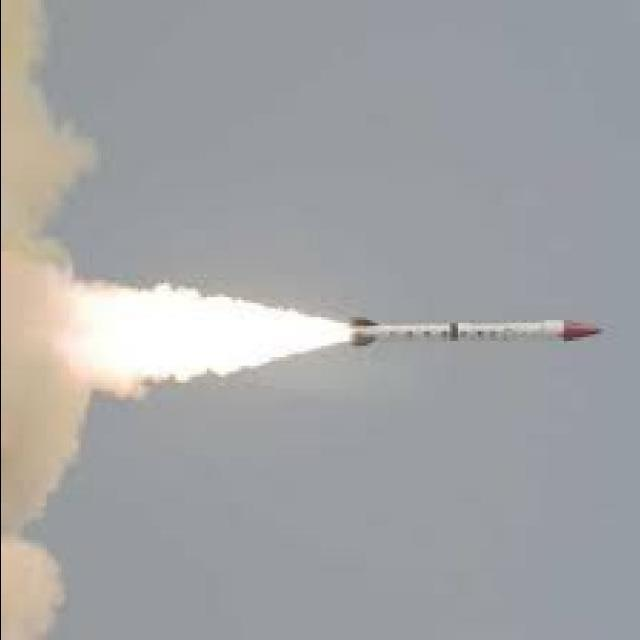Missile: (347, 315, 603, 347)
